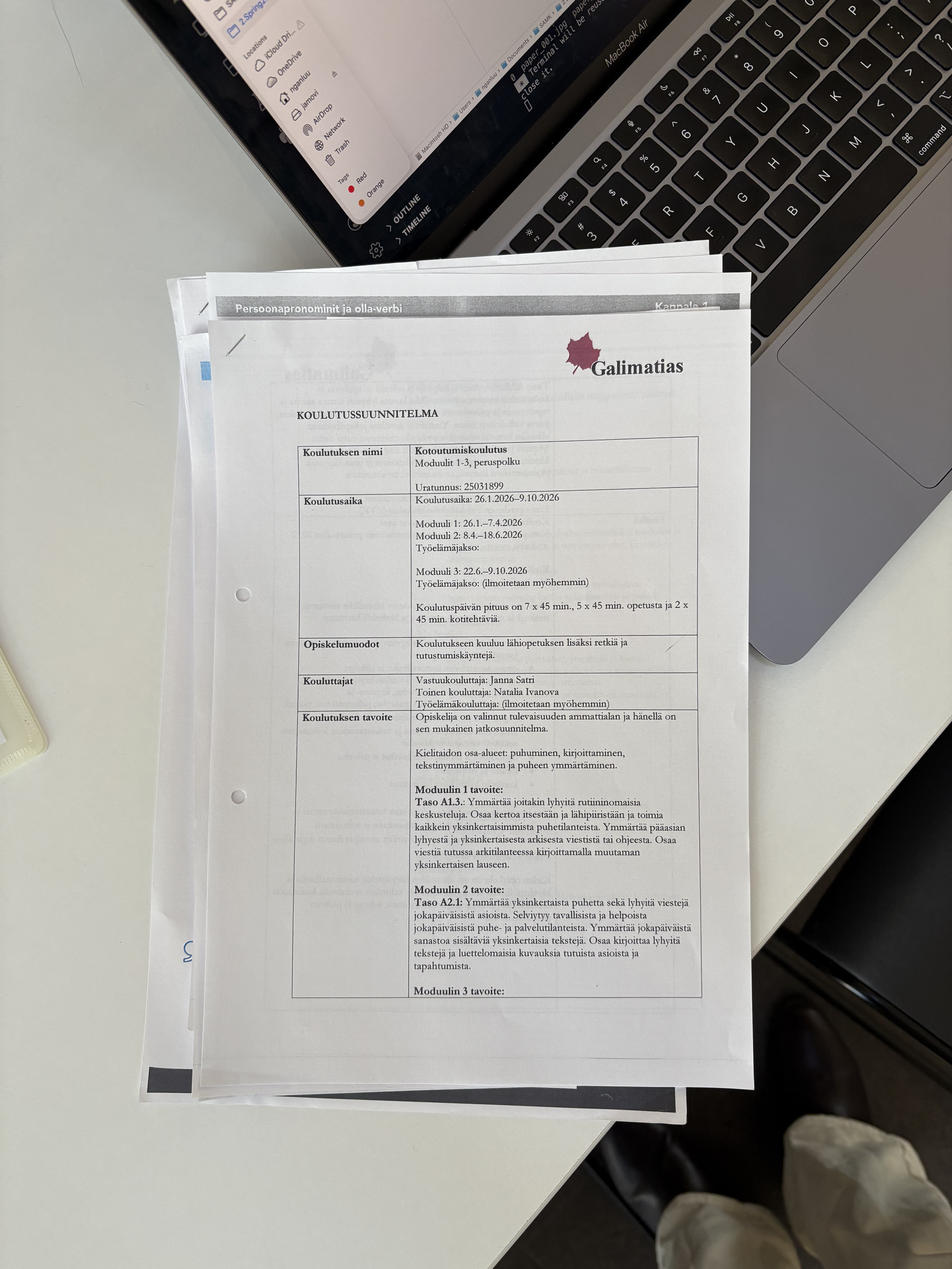paper: (119, 242, 759, 1127)
